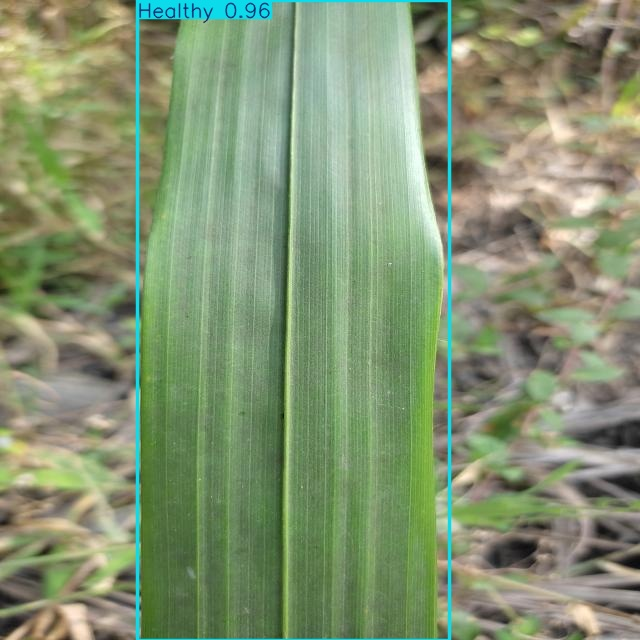Healthy: (137, 0, 450, 640)
